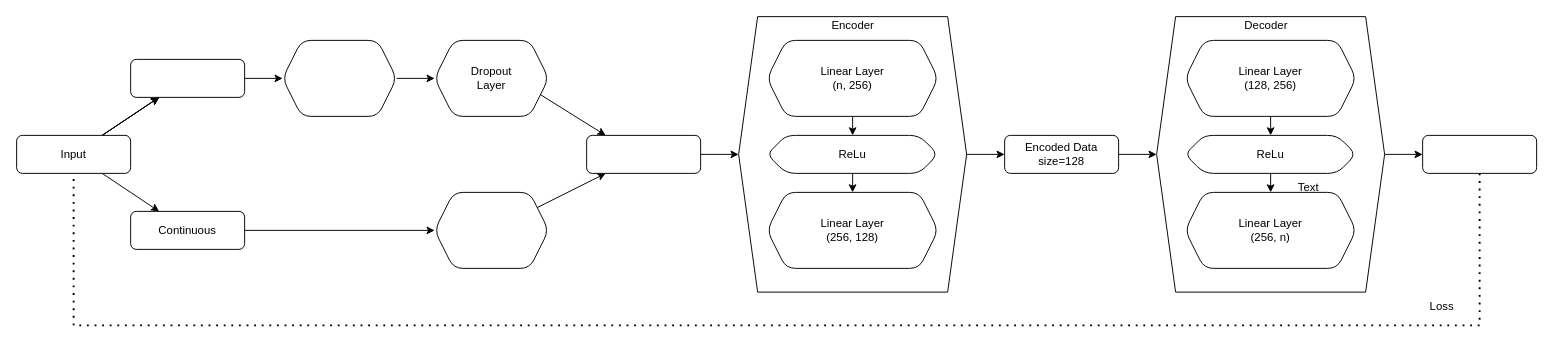
The diagram is 1553 pixels wide and 344 high, and some of its shapes have lost their labels. Each missing label, with the box of its shape:
Batchnorm Layer: (434, 191, 549, 268)
Categorical: (130, 58, 245, 97)
Decoded Data size=n: (1422, 134, 1537, 173)
Embedding Layer: (282, 39, 397, 116)
Input size=n: (586, 134, 701, 173)
